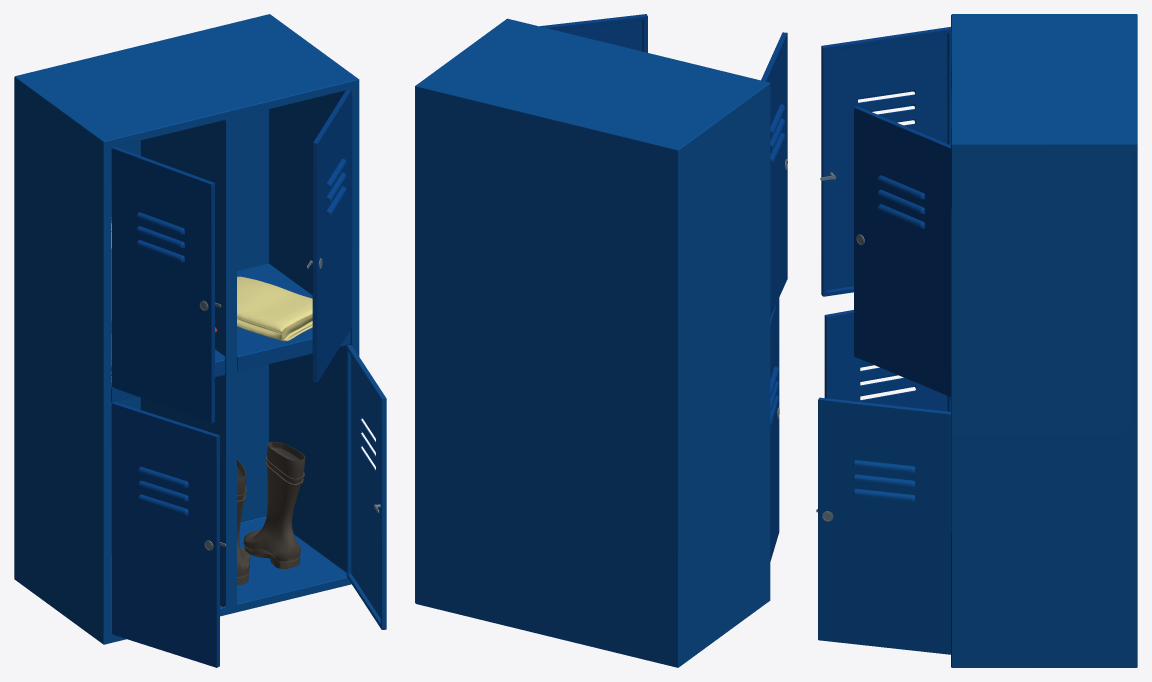
File: SM_Locker_OpenFixed_Pop_V02_Blue.fbx
The picture shows the model from 3 angles, left to right: view 1: azimuth 30°, elevation 25°; view 2: azimuth 150°, elevation 25°; view 3: azimuth 270°, elevation 25°; orthographic projection. The views are drawn at different scales.
Visible parts, largest first — view 1: SM_Locker_OpenFixed_Pop_V02_Blue; view 2: SM_Locker_OpenFixed_Pop_V02_Blue; view 3: SM_Locker_OpenFixed_Pop_V02_Blue.
Boxes of the visible parts, x1=… form: SM_Locker_OpenFixed_Pop_V02_Blue: x1=14, y1=14, x2=386, y2=667; SM_Locker_OpenFixed_Pop_V02_Blue: x1=415, y1=14, x2=787, y2=667; SM_Locker_OpenFixed_Pop_V02_Blue: x1=816, y1=14, x2=1137, y2=667.
Size of the model in its own units: 115 by 215 by 120.
